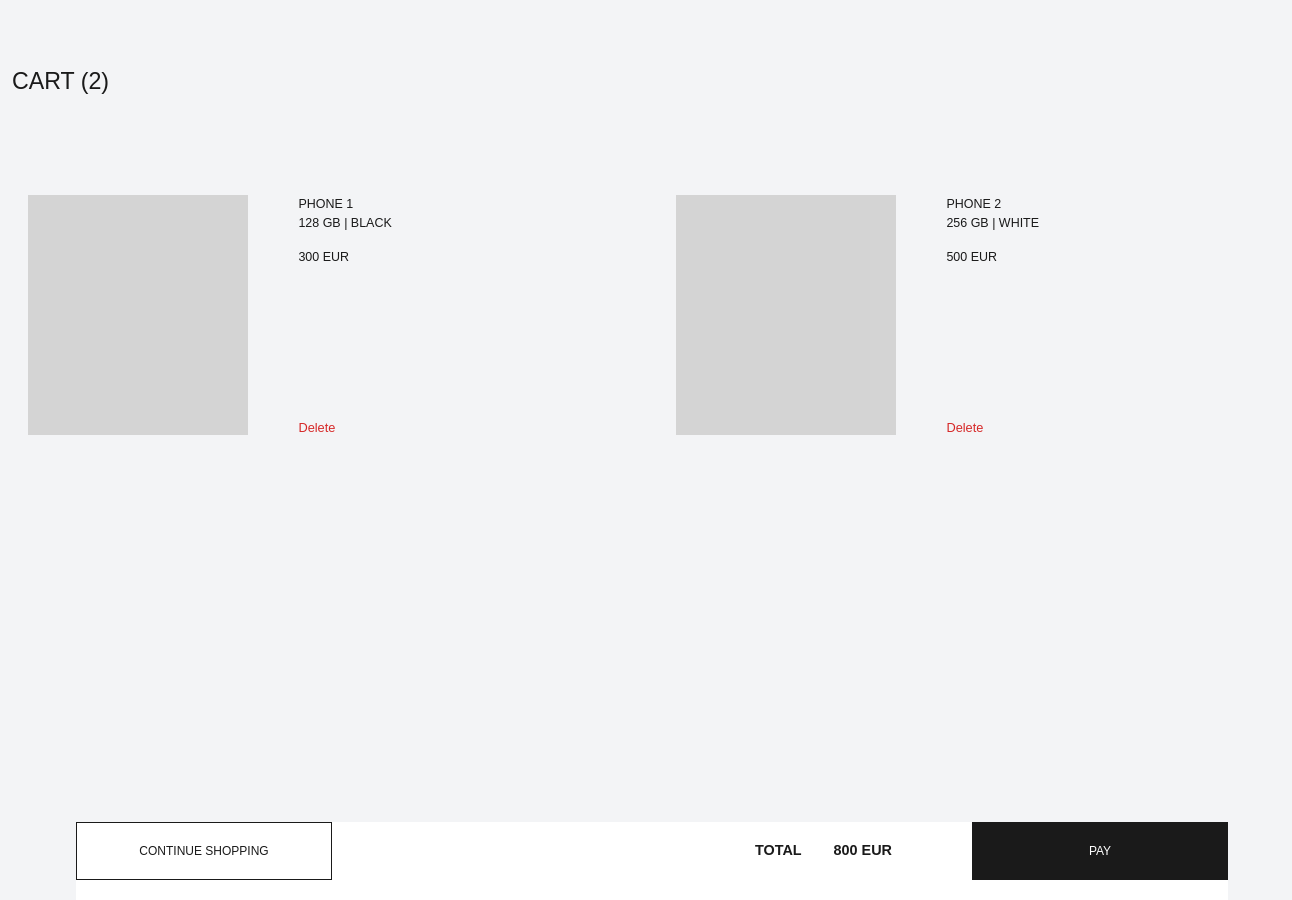
Test case: Shopping Bag View integration (happy path) › removing a product removes it from the DOM and total is recalculated correctly
Expected: the message "TOTAL 800 EUR" is shown, [755,840,892,862]
Expected: the message with class "shopping-bag-total" shows "800 EUR", [834,842,892,858]
Click the button "Delete" below "300 EUR" at (317, 427), box [298,420,335,435]
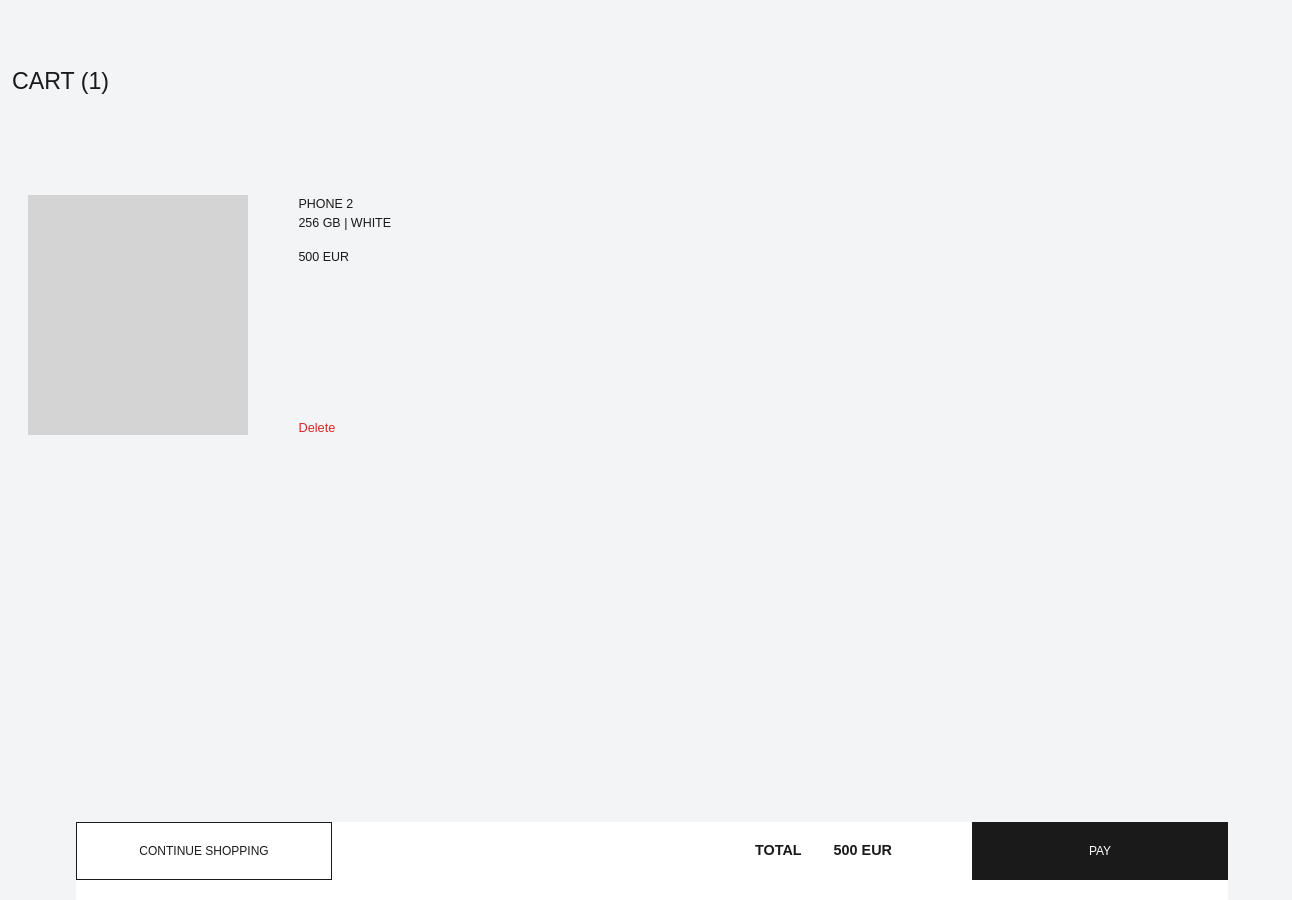
Now the text "Phone 1" is gone
Now the message with class "shopping-bag-total" shows "500 EUR", box [834,842,892,858]
